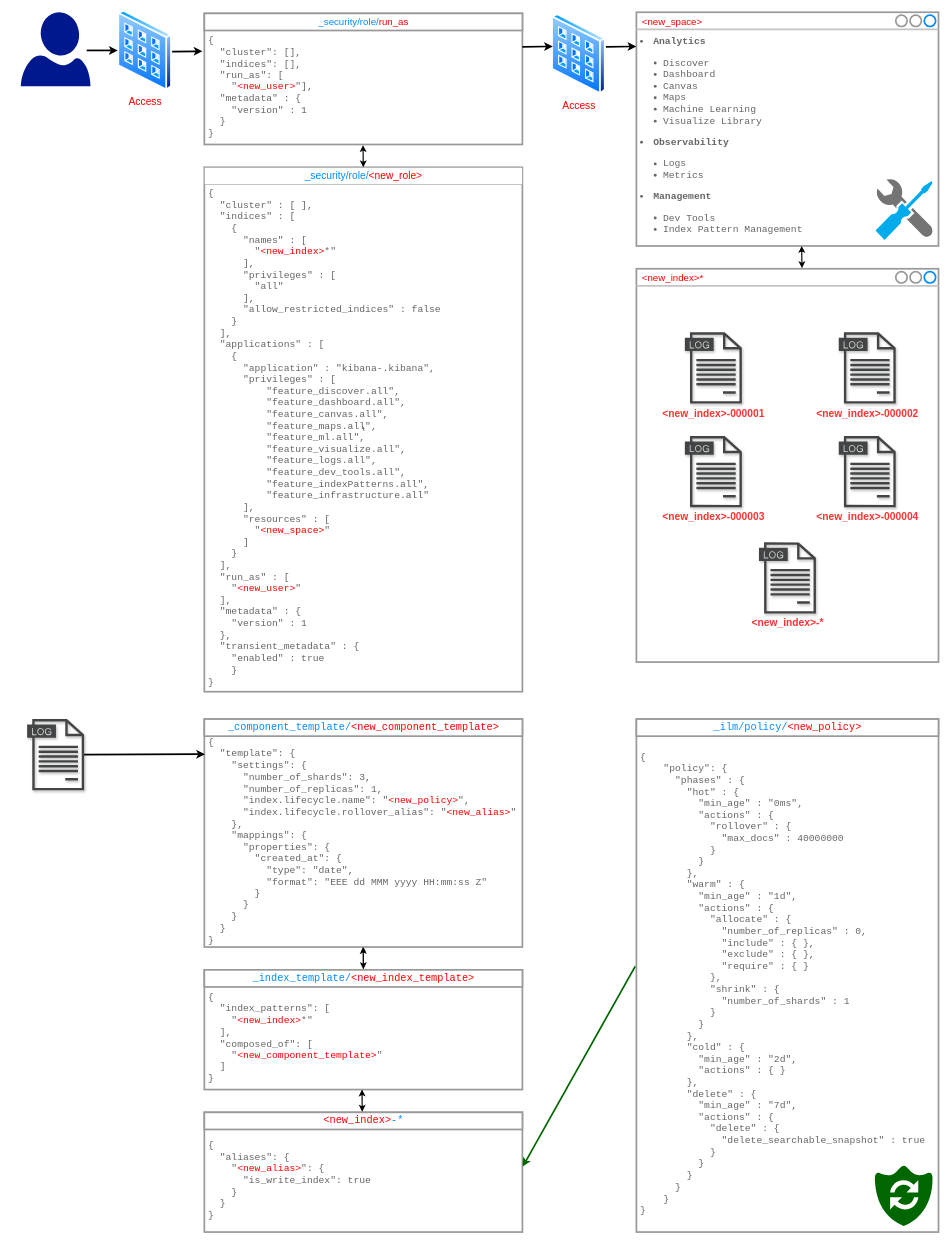
Some shapes in this 950 by 1243 pixel diagram are drawn without their labels. The centre of each missing label's shape, as x and y in pixels:
"<new_user>" goes at (55,49).
"Index Management" goes at (56,755).
